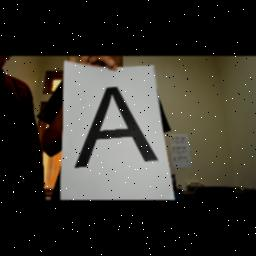a: (68, 84, 164, 172)
